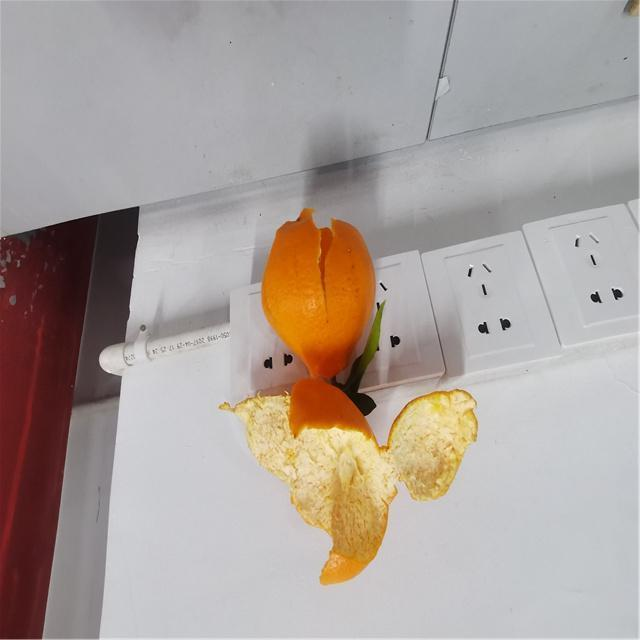orange peel: (220, 376, 478, 586), (260, 206, 378, 382)
